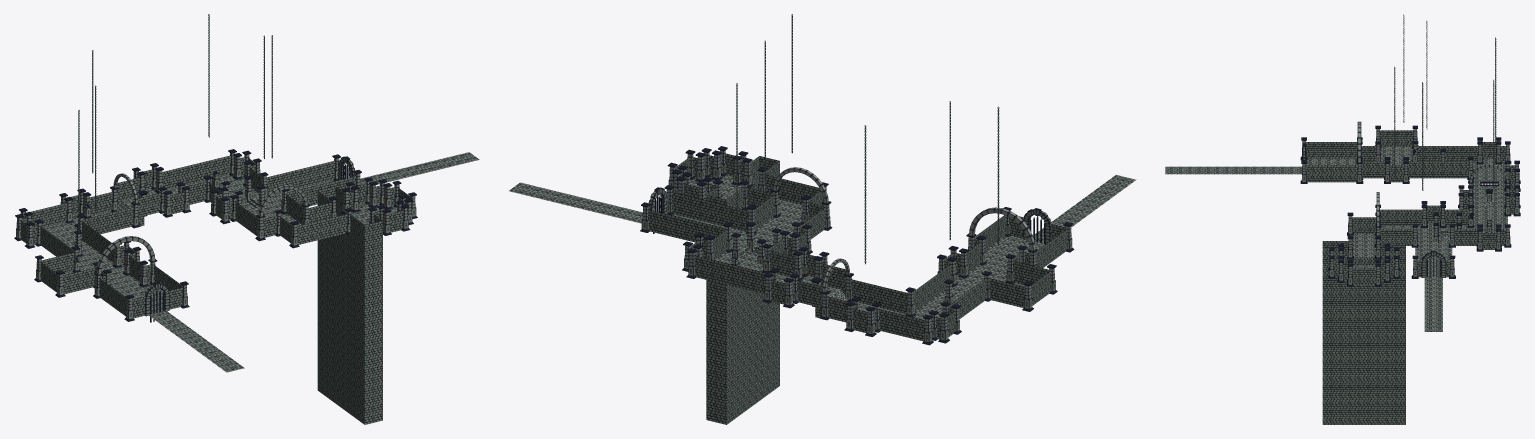
Rendered from Level1.fbx.
3 renders of one model, left to right at view 1: azimuth 30°, elevation 25°; view 2: azimuth 150°, elevation 25°; view 3: azimuth 270°, elevation 25°, orthographic. The views are drawn at different scales.
Parts seen in each view (by area): view 1: Level1; view 2: Level1; view 3: Level1.
Boxes of the visible parts, bbox=[...] form: Level1: bbox=[14, 14, 479, 424]; Level1: bbox=[509, 14, 1136, 424]; Level1: bbox=[1165, 14, 1520, 424].
Bounding box in the file's own units: 7408 × 5873 × 5757.
